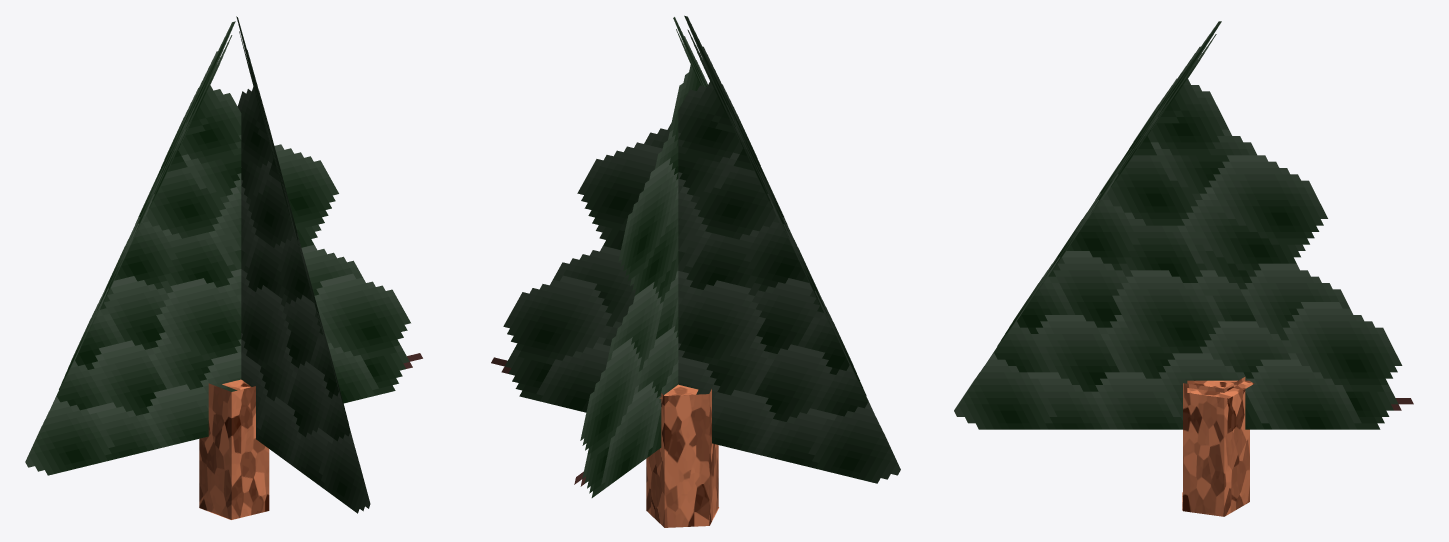
The model's file is tree2.glb.
The picture shows the model from 3 angles, left to right: view 1: azimuth 30°, elevation 25°; view 2: azimuth 150°, elevation 25°; view 3: azimuth 270°, elevation 25°; orthographic projection. The views are drawn at different scales.
Parts seen in each view (by area): view 1: tree, tree.001; view 2: tree, tree.001; view 3: tree, tree.001.
Part boxes in pixels (x1,y1,x2,y2): tree: (25,16,422,513); tree.001: (199,383,269,519); tree: (491,15,900,497); tree.001: (646,389,718,527); tree: (954,21,1413,429); tree.001: (1183,377,1249,516).
Size of the model in its own units: 2 by 2.16 by 2.
Materials: 2 (2 with a texture image).
